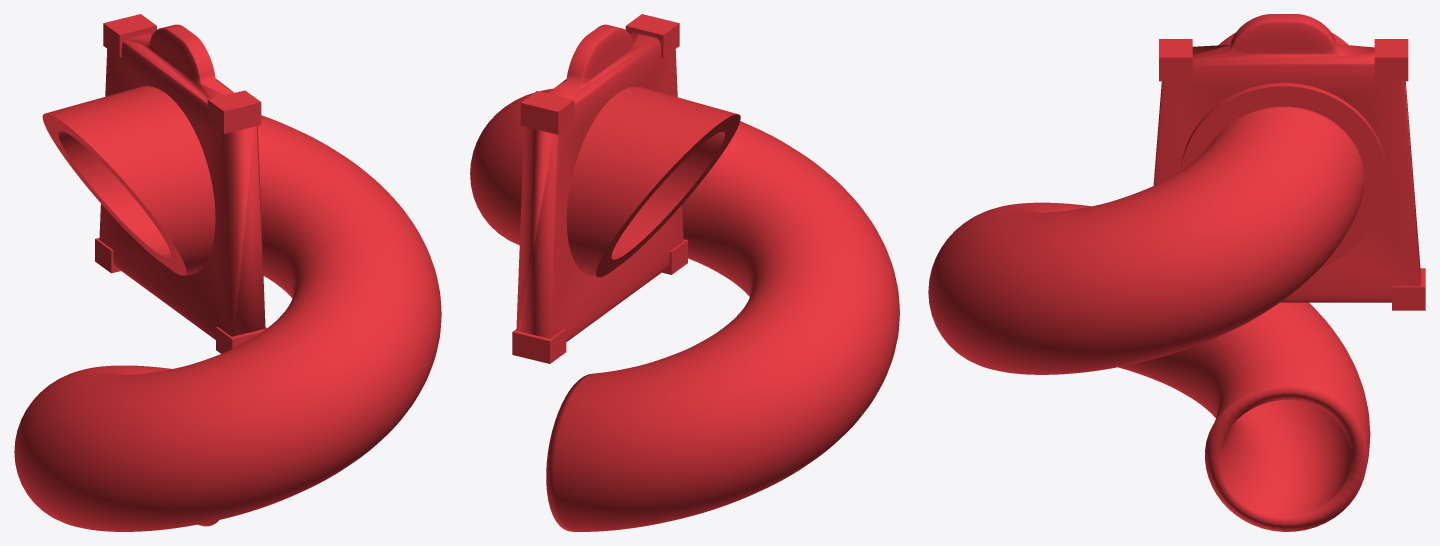
File: slidecopy.glb
3 renders of one model, left to right at view 1: azimuth 30°, elevation 25°; view 2: azimuth 150°, elevation 25°; view 3: azimuth 270°, elevation 25°, orthographic. The views are drawn at different scales.
Parts seen in each view (by area): view 1: BézierCircle, 立方體, 圓柱體, 立方體.001, 立方體.002, 立方體.003, 立方體.004; view 2: BézierCircle, 立方體, 圓柱體, 立方體.002, 立方體.004, 立方體.001, 立方體.003; view 3: BézierCircle, 立方體, 圓柱體, 立方體.002, 立方體.001, 立方體.004.
Part boxes in pixels (bbox=[...]): BézierCircle: bbox=[14, 115, 441, 531]; 立方體: bbox=[99, 24, 265, 339]; 圓柱體: bbox=[42, 86, 215, 275]; 立方體.001: bbox=[207, 90, 261, 133]; 立方體.002: bbox=[103, 14, 156, 57]; 立方體.003: bbox=[216, 327, 266, 353]; 立方體.004: bbox=[95, 237, 120, 273]; BézierCircle: bbox=[470, 88, 899, 531]; 立方體: bbox=[516, 24, 683, 341]; 圓柱體: bbox=[566, 86, 740, 277]; 立方體.002: bbox=[520, 91, 574, 134]; 立方體.004: bbox=[512, 329, 566, 363]; 立方體.001: bbox=[625, 14, 679, 57]; 立方體.003: bbox=[662, 239, 687, 274]; BézierCircle: bbox=[928, 106, 1370, 531]; 立方體: bbox=[1153, 14, 1420, 302]; 圓柱體: bbox=[1180, 32, 1386, 266]; 立方體.002: bbox=[1374, 39, 1408, 81]; 立方體.001: bbox=[1159, 39, 1192, 81]; 立方體.004: bbox=[1392, 268, 1425, 310].
Bounding box in the file's own units: 2.72 × 3.45 × 3.06.
